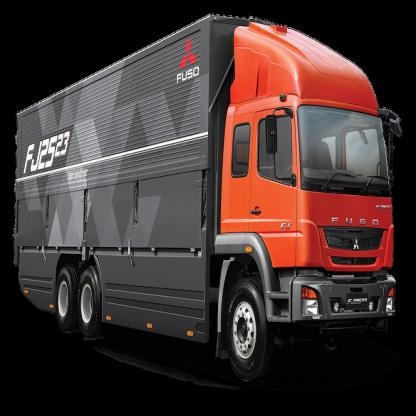truck: (15, 17, 402, 382)
